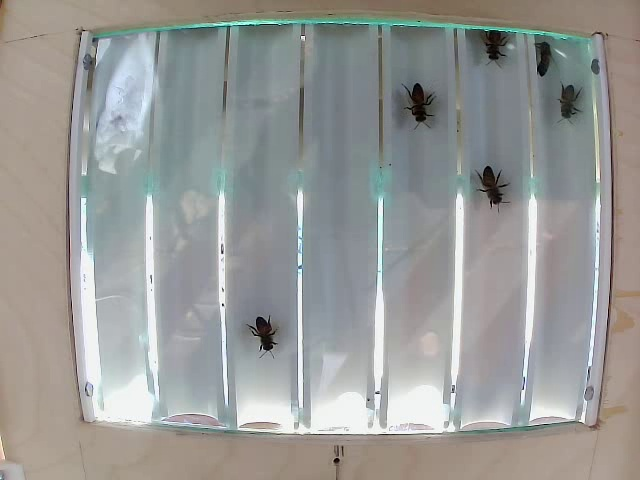bee: (405, 82, 441, 135), (476, 28, 514, 75), (475, 159, 505, 212), (249, 313, 278, 356), (536, 34, 558, 81), (558, 83, 580, 123)
